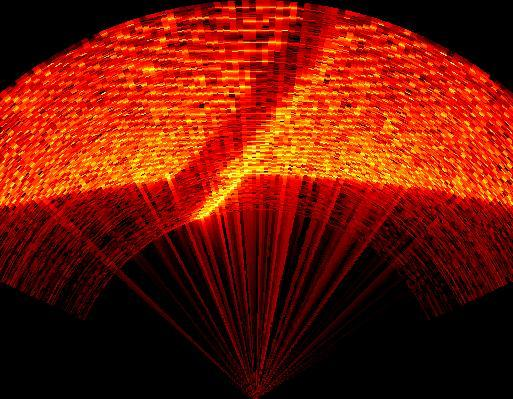pipe: (175, 6, 350, 212)
